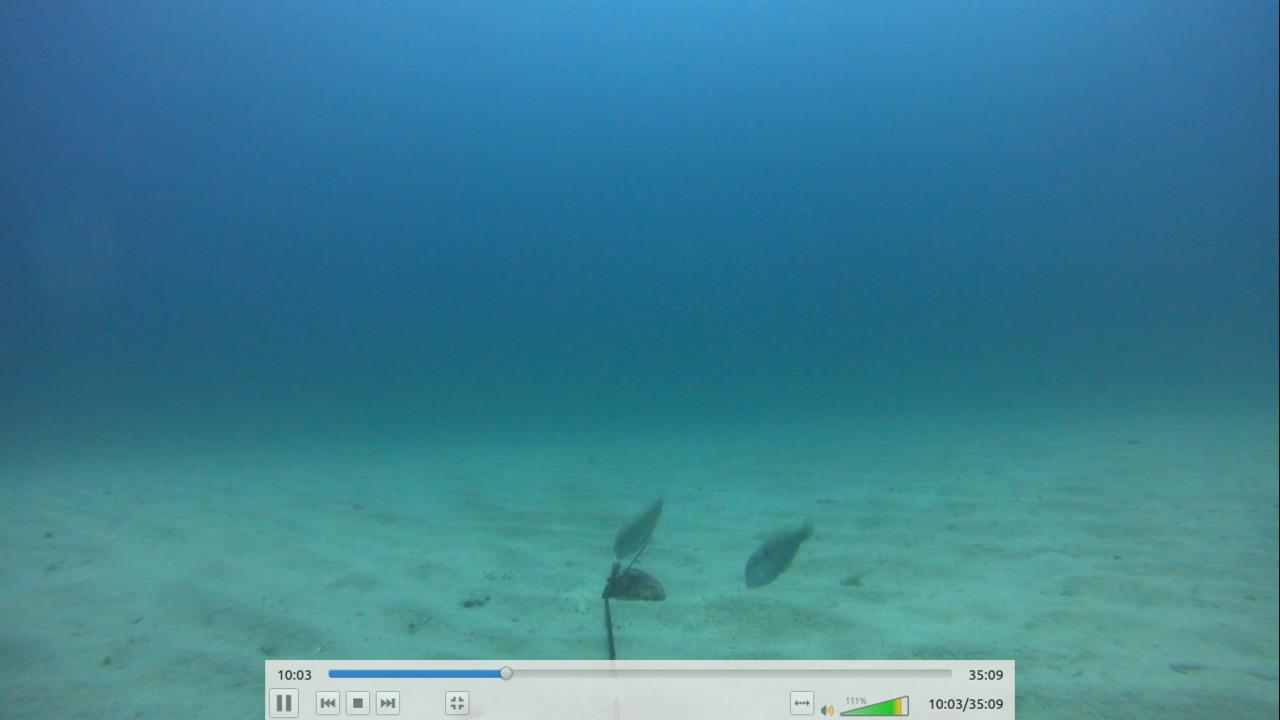raor: (739, 514, 819, 594), (608, 492, 667, 564)
